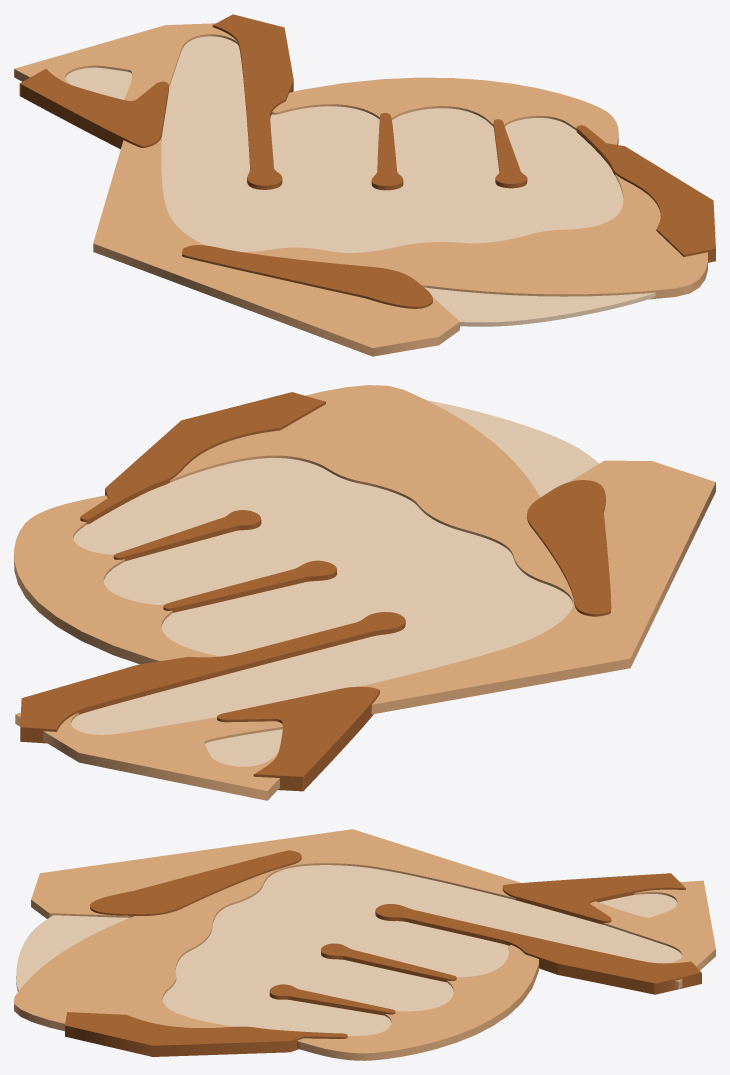
The model's file is emoji_u1faf0_1f3fb.glb.
3 views of the same model, one above another, from view 1: azimuth 30°, elevation 25°; view 2: azimuth 150°, elevation 25°; view 3: azimuth 270°, elevation 25° (orthographic). The views are drawn at different scales.
Parts seen in each view (by area): view 1: emoji_u1faf0_1f3fb; view 2: emoji_u1faf0_1f3fb; view 3: emoji_u1faf0_1f3fb.
Boxes of the visible parts, <box> form: emoji_u1faf0_1f3fb: <box>14,14,715,356</box>; emoji_u1faf0_1f3fb: <box>14,385,715,800</box>; emoji_u1faf0_1f3fb: <box>14,829,715,1060</box>.
Size of the model in its own units: 0.0257 by 0.0006 by 0.0339.
